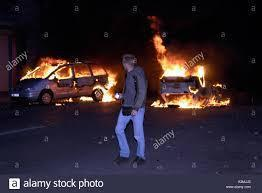fire: (146, 15, 232, 109), (18, 47, 116, 105)
